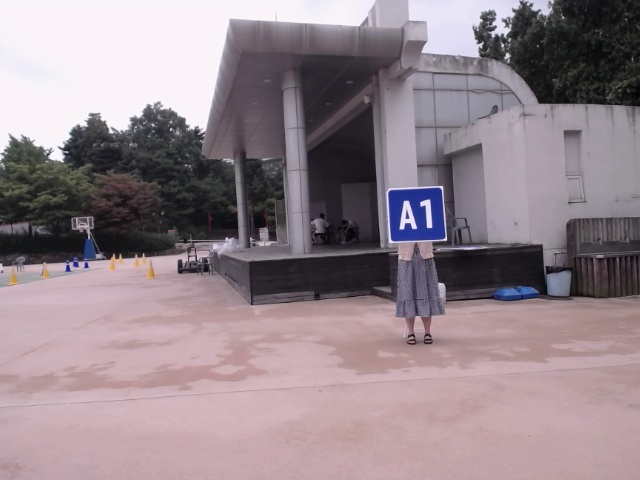delivery_a1: (387, 188, 447, 243)
